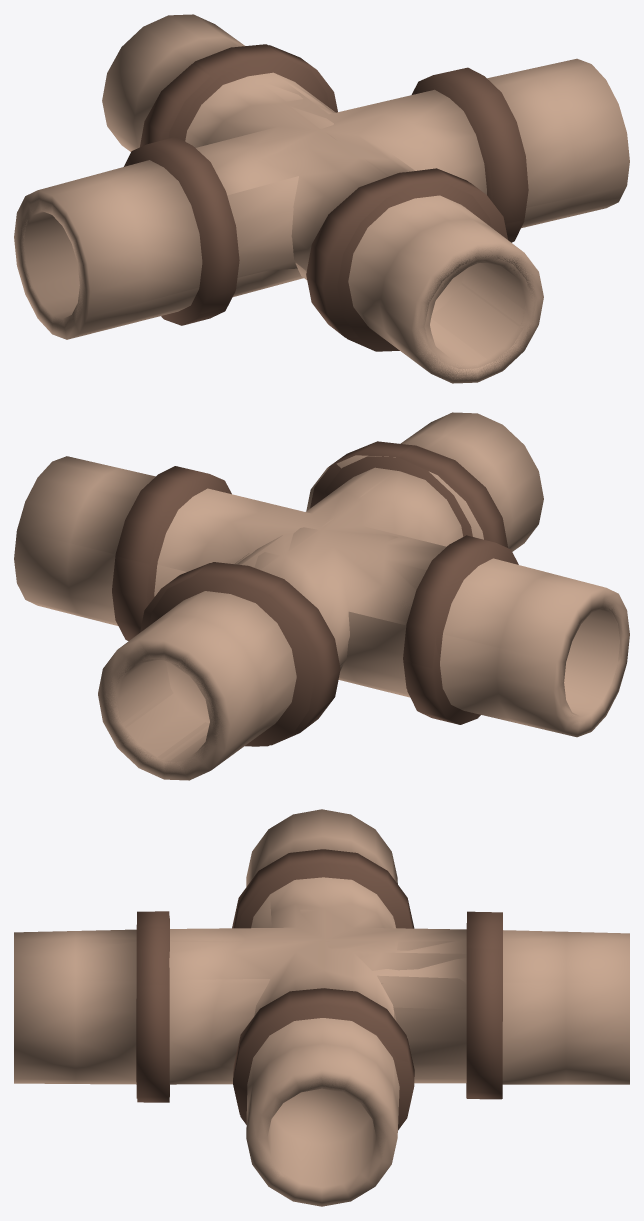
File: TurningPipes.fbx
3 renders of one model, top to bottom at view 1: azimuth 30°, elevation 25°; view 2: azimuth 150°, elevation 25°; view 3: azimuth 270°, elevation 25°, orthographic.
Parts seen in each view (by area): view 1: 4Way, Corner, 3Way, Straight; view 2: 4Way, Corner, 3Way, Straight; view 3: 4Way, 3Way, Straight, Corner.
Boxes of the visible parts, left/top/right/bottom form: 4Way: left=14, top=14, right=629, bottom=383; Corner: left=14, top=15, right=335, bottom=338; 3Way: left=14, top=78, right=626, bottom=383; Straight: left=130, top=18, right=539, bottom=383; 4Way: left=17, top=413, right=628, bottom=780; Corner: left=98, top=527, right=629, bottom=779; 3Way: left=14, top=412, right=622, bottom=736; Straight: left=98, top=421, right=472, bottom=780; 4Way: left=14, top=809, right=629, bottom=1206; 3Way: left=14, top=853, right=414, bottom=1188; Straight: left=30, top=918, right=629, bottom=1099; Corner: left=232, top=815, right=502, bottom=1098.
Bounding box in the file's own units: 100 × 29.65 × 100.
